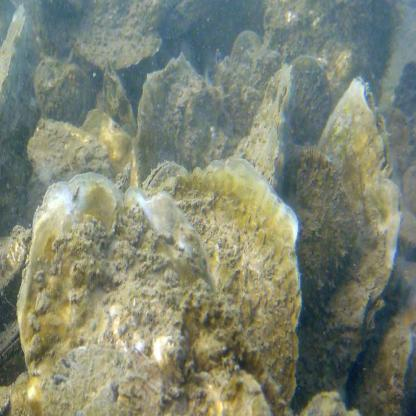3: (292, 76, 401, 414), (140, 163, 189, 189), (0, 319, 22, 368)
Oyster-Closed: (349, 259, 416, 416), (234, 63, 295, 184), (0, 5, 28, 134)
Oyster-Open: (18, 173, 293, 416), (150, 159, 302, 401), (273, 147, 356, 337), (129, 53, 207, 186), (41, 343, 163, 416), (29, 117, 115, 188), (72, 11, 163, 70), (182, 85, 240, 170), (33, 60, 98, 127), (292, 56, 333, 147), (103, 60, 137, 137), (299, 393, 364, 416), (0, 373, 27, 416), (231, 31, 260, 65)
